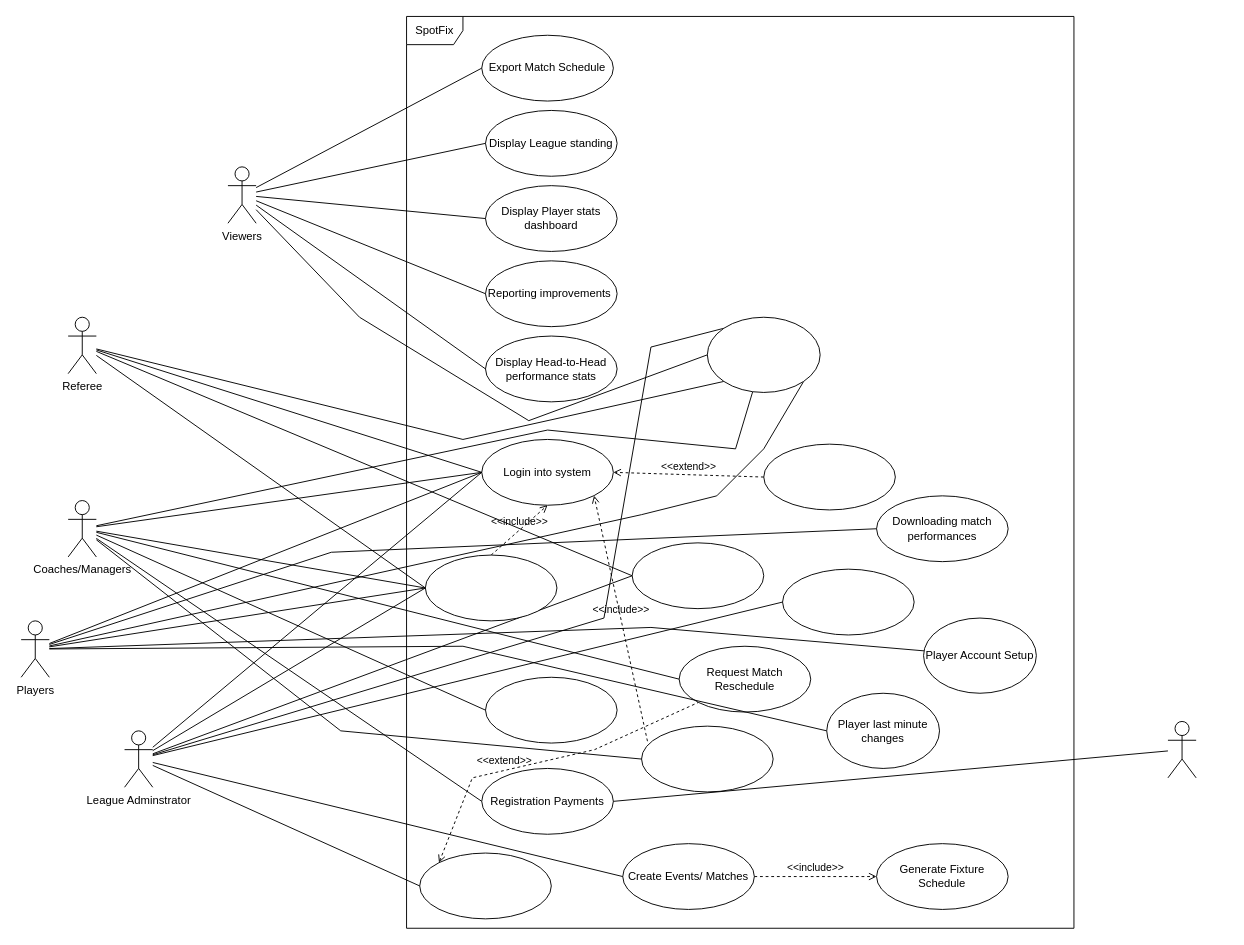
This 1244x945 diagram has some shape labels left out. Each missing label, with the box of its shape:
Assign Referee: (782, 568, 914, 635)
Broadcast Announcements: (419, 852, 551, 919)
Payment Gateway: (1167, 721, 1196, 778)
Reset Password: (763, 443, 895, 510)
Searching for Games/Fixtures: (706, 316, 820, 392)
Submitting Match Disputes: (485, 676, 617, 743)
Team Management: (641, 725, 773, 792)
Update Match result: (631, 542, 764, 609)
Update User profiles: (424, 554, 557, 621)
